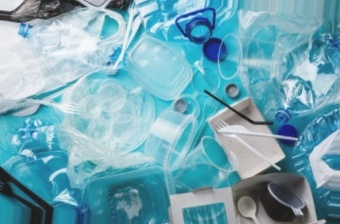plastic: (56, 70, 160, 155)
